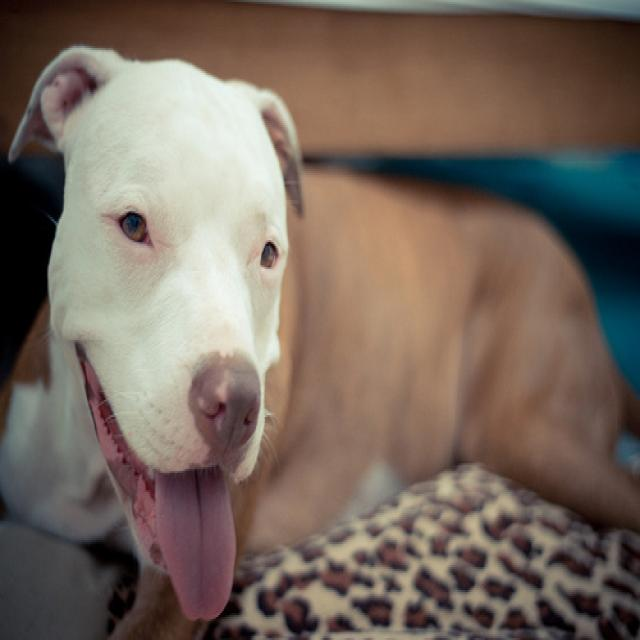dog-american_pit_bull_terrier: (1, 27, 637, 636)
